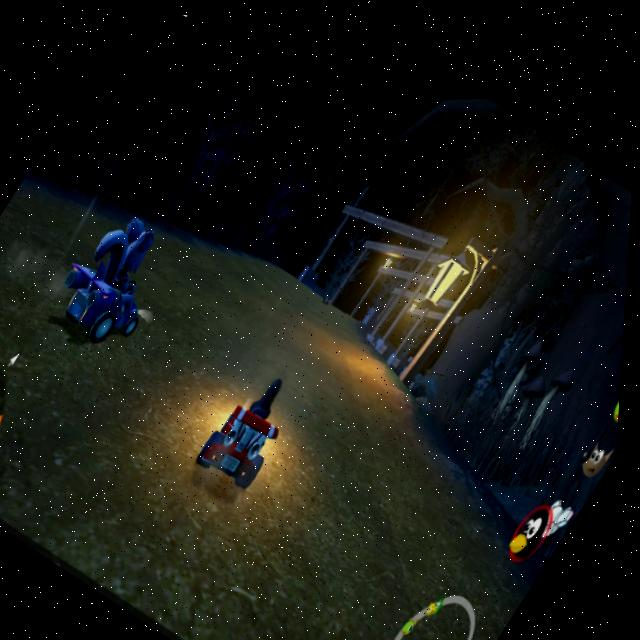enemy_kart: (40, 194, 195, 372)
player_kart: (186, 349, 316, 509)
track: (159, 220, 426, 439)
